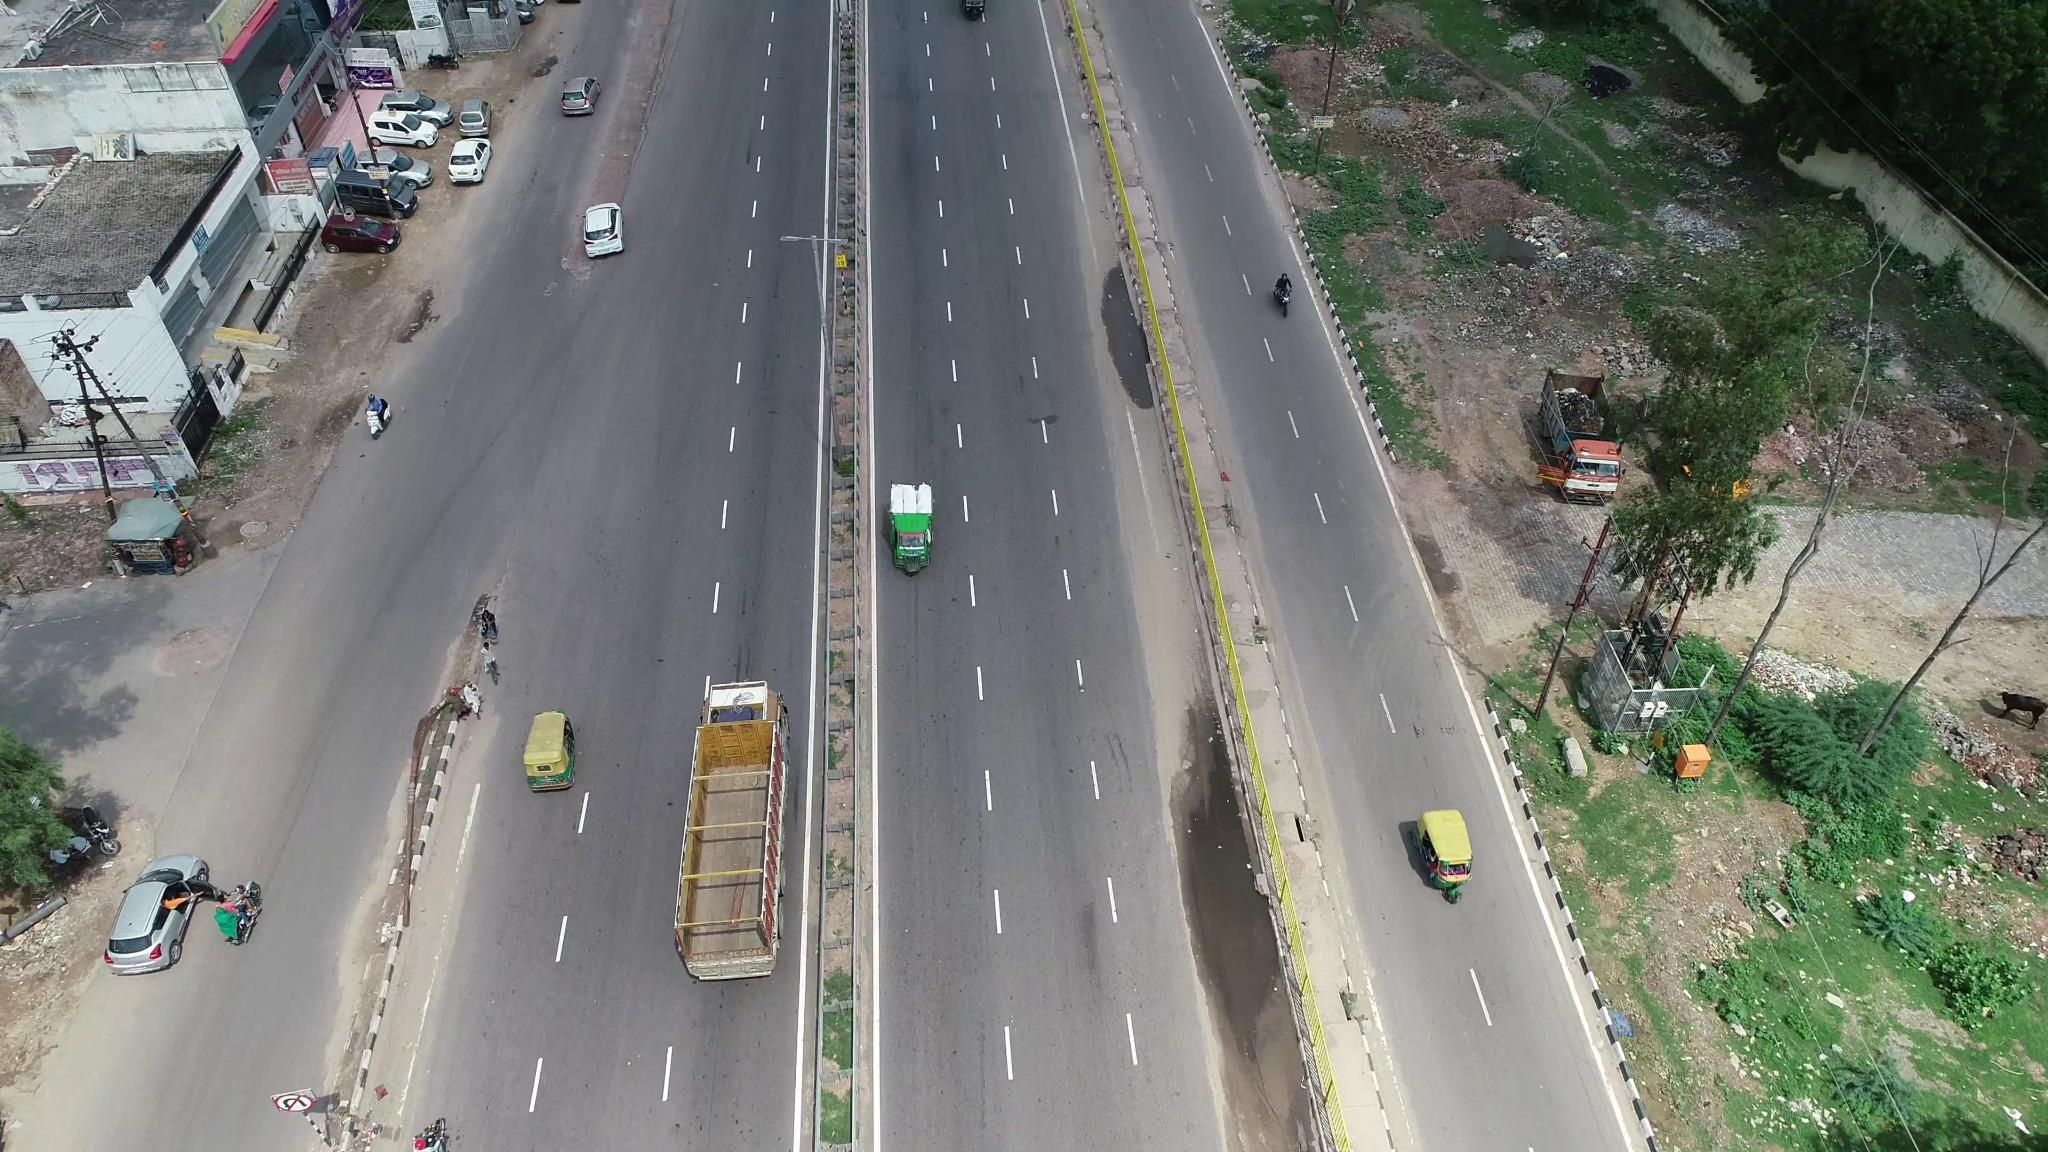Waterlogging: (1166, 724, 1272, 1037), (1099, 271, 1148, 414)
